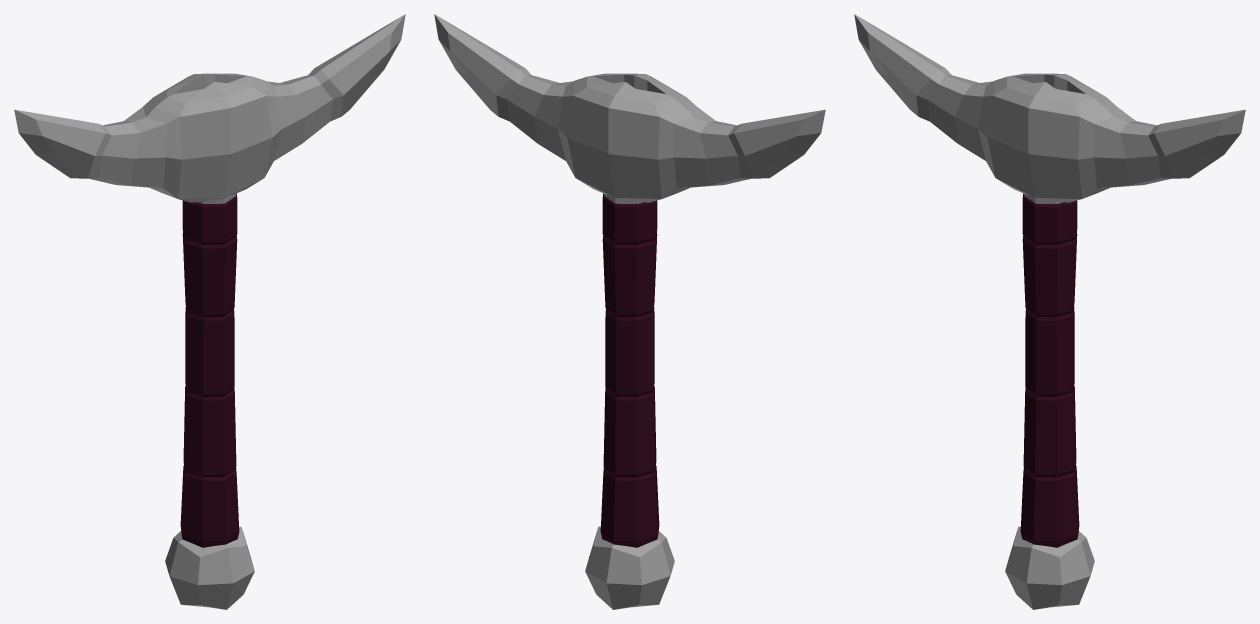
File: Longsword.Handle.fbx
3 renders of one model, left to right at view 1: azimuth 30°, elevation 25°; view 2: azimuth 150°, elevation 25°; view 3: azimuth 330°, elevation 25°, orthographic.
Parts seen in each view (by area): view 1: Longsword.Handle; view 2: Longsword.Handle; view 3: Longsword.Handle.
Part boxes in pixels (x1,y1,x2,y2): Longsword.Handle: (14,14,405,609); Longsword.Handle: (434,14,825,609); Longsword.Handle: (854,14,1245,609).
Size of the model in its own units: 0.2744 by 0.0569 by 0.3654.
